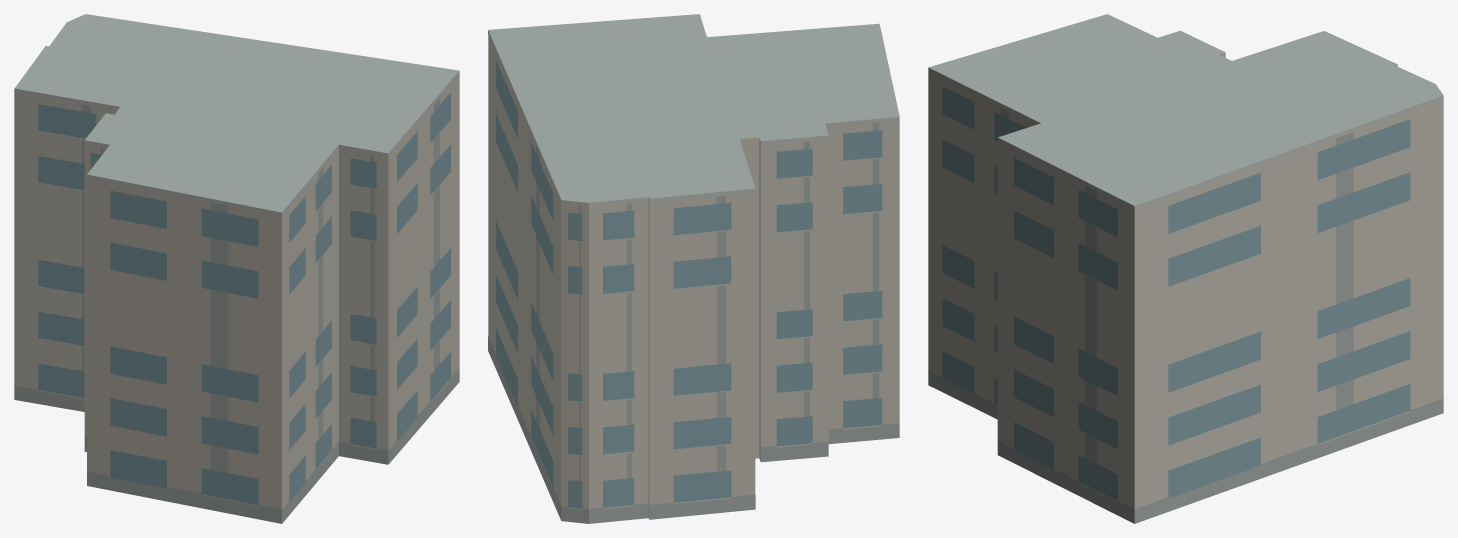
Rendered from survey-upis-32790811.glb.
The picture shows the model from 3 angles, left to right: view 1: azimuth 30°, elevation 25°; view 2: azimuth 150°, elevation 25°; view 3: azimuth 270°, elevation 25°; orthographic projection. The views are drawn at different scales.
Parts seen in each view (by area): view 1: survey-upis-32790811.tmp; view 2: survey-upis-32790811.tmp; view 3: survey-upis-32790811.tmp.
Boxes of the visible parts, x1,y1,x2,y2 form: survey-upis-32790811.tmp: (14,14,459,523); survey-upis-32790811.tmp: (488,14,899,523); survey-upis-32790811.tmp: (928,14,1443,523).
Size of the model in its own units: 23.75 by 18.3 by 26.91.
